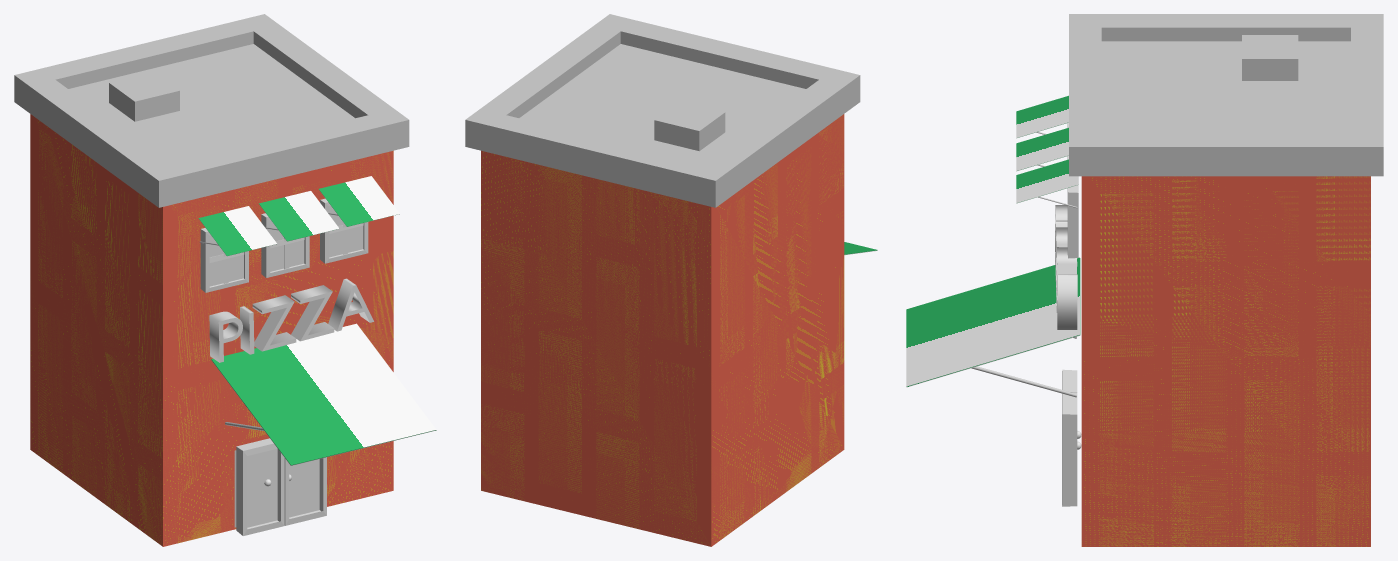
The model's file is Pizzeria.fbx.
3 views of the same model, side by side, from view 1: azimuth 30°, elevation 25°; view 2: azimuth 150°, elevation 25°; view 3: azimuth 270°, elevation 25° (orthographic). The views are drawn at different scales.
Parts seen in each view (by area): view 1: Building, Ceiling, Slide, Text, Frame.004, Motor, Frame.006, Slide.003, Slide.001, Slide.002, Frame, Frame.001 (+1 smaller); view 2: Building, Ceiling, Motor; view 3: Building, Ceiling, Slide, Motor, Text, Frame.006, Slide.003, Slide.001, Slide.002, Frame.002.
Part boxes in pixels (bbox=[...]): Building: bbox=[30, 114, 393, 546]; Ceiling: bbox=[14, 14, 409, 207]; Slide: bbox=[211, 323, 436, 465]; Text: bbox=[209, 278, 373, 362]; Frame.004: bbox=[236, 438, 284, 535]; Motor: bbox=[109, 71, 179, 121]; Frame.006: bbox=[284, 457, 326, 525]; Slide.003: bbox=[318, 176, 399, 226]; Slide.001: bbox=[258, 191, 339, 241]; Slide.002: bbox=[198, 206, 276, 256]; Frame: bbox=[200, 228, 248, 292]; Frame.001: bbox=[261, 213, 309, 277]; Building: bbox=[481, 114, 844, 546]; Ceiling: bbox=[465, 14, 860, 207]; Motor: bbox=[654, 101, 725, 151]; Building: bbox=[1081, 176, 1370, 546]; Ceiling: bbox=[1069, 14, 1383, 176]; Slide: bbox=[906, 257, 1080, 387]; Motor: bbox=[1242, 35, 1298, 80]; Text: bbox=[1055, 205, 1077, 329]; Frame.006: bbox=[1062, 392, 1077, 506]; Slide.003: bbox=[1016, 159, 1078, 203]; Slide.001: bbox=[1016, 127, 1068, 171]; Slide.002: bbox=[1016, 95, 1068, 138]; Frame.002: bbox=[1067, 185, 1078, 258].
Size of the model in its own units: 344 by 499 by 522.
Materials: 7 (2 with a texture image).
